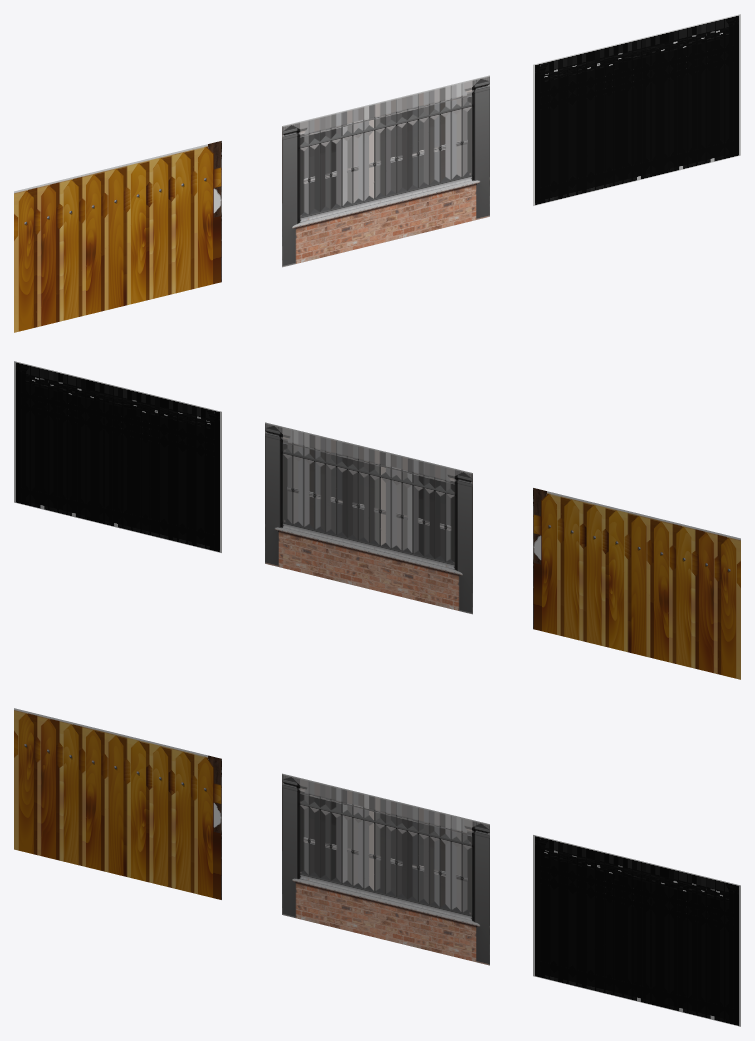
The model's file is fences.fbx.
3 renders of one model, top to bottom at view 1: azimuth 30°, elevation 25°; view 2: azimuth 150°, elevation 25°; view 3: azimuth 330°, elevation 25°, orthographic.
Parts seen in each view (by area): view 1: Plane, Plane.001, Plane.002; view 2: Plane, Plane.001, Plane.002; view 3: Plane, Plane.001, Plane.002.
Part boxes in pixels (left/top/right/bottom): Plane: left=282, top=75, right=489, bottom=267; Plane.001: left=533, top=14, right=740, bottom=205; Plane.002: left=14, top=141, right=221, bottom=332; Plane: left=265, top=422, right=472, bottom=614; Plane.001: left=14, top=361, right=221, bottom=552; Plane.002: left=533, top=488, right=740, bottom=679; Plane: left=282, top=773, right=489, bottom=965; Plane.001: left=533, top=835, right=740, bottom=1026; Plane.002: left=14, top=708, right=221, bottom=899.
Size of the model in its own units: 699 by 130 by 0.01.
